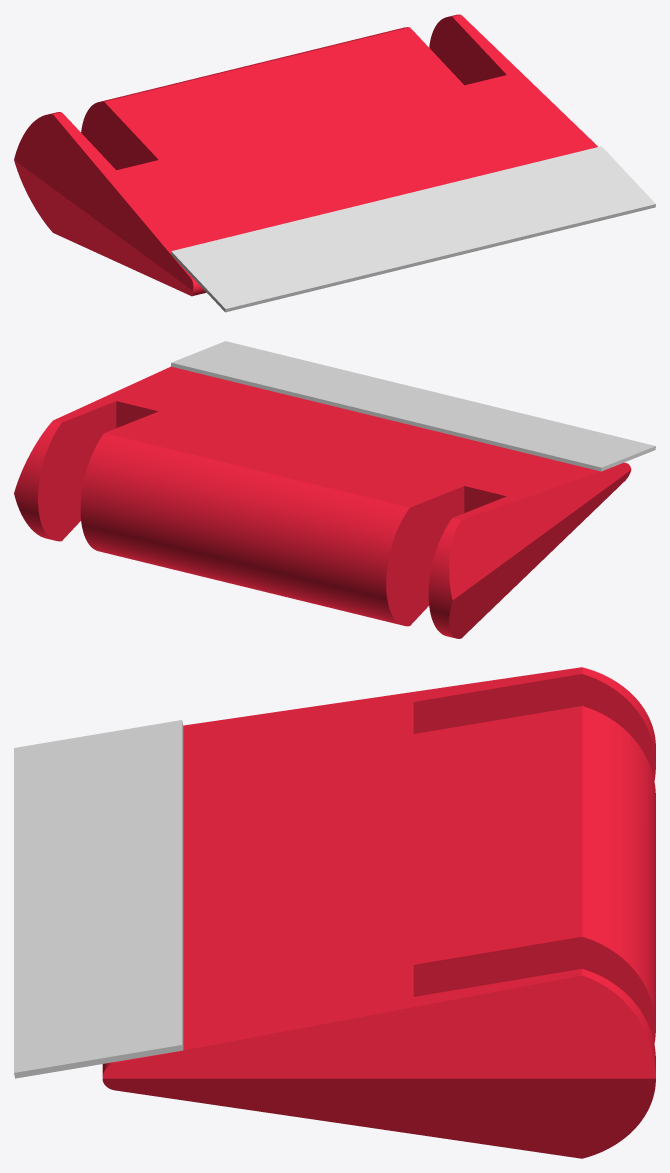
The model's file is Mr Stabs Mk2 Chassis.dae.
3 renders of one model, top to bottom at view 1: azimuth 30°, elevation 25°; view 2: azimuth 150°, elevation 25°; view 3: azimuth 270°, elevation 25°, orthographic. The views are drawn at different scales.
Visible parts, largest first — view 1: 6675001333d15b776682948b (×2); view 2: 6675001333d15b776682948b (×2); view 3: 6675001333d15b776682948b (×2).
Part boxes in pixels (x1,y1,x2,y2): 6675001333d15b776682948b (×2): (14, 14, 655, 312); 6675001333d15b776682948b (×2): (14, 341, 655, 638); 6675001333d15b776682948b (×2): (14, 667, 655, 1158).
Bounding box in the file's own units: 0.155 × 0.127 × 0.04.
